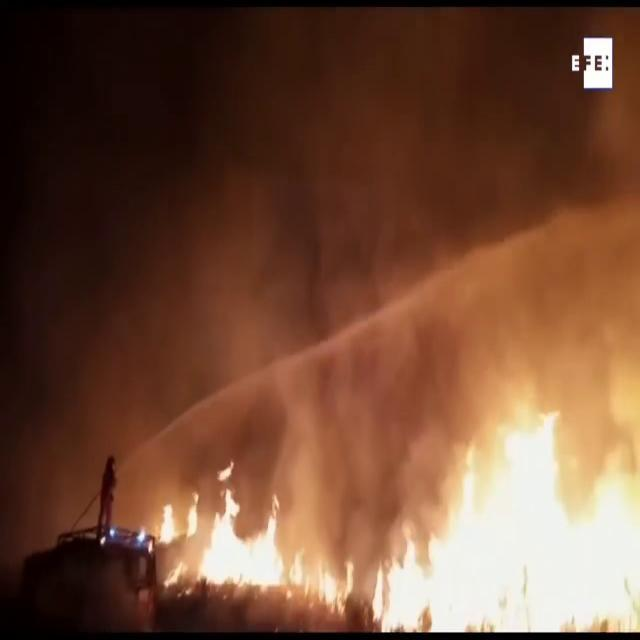Fire: (373, 366, 640, 631), (157, 472, 337, 611)
Smoke: (1, 8, 636, 481)
